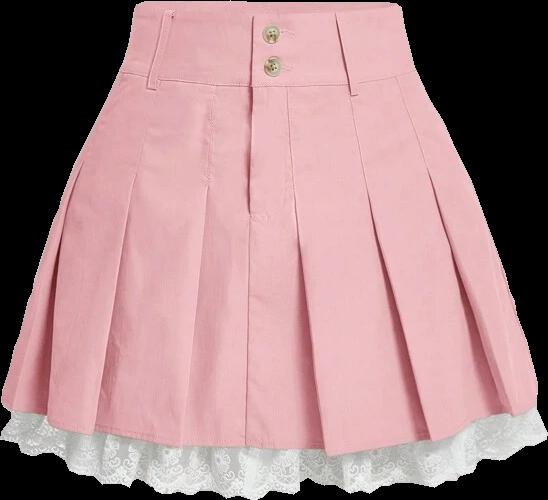Hemline: (0, 434, 547, 499), (0, 396, 539, 457)
Waistline: (138, 0, 396, 13)
